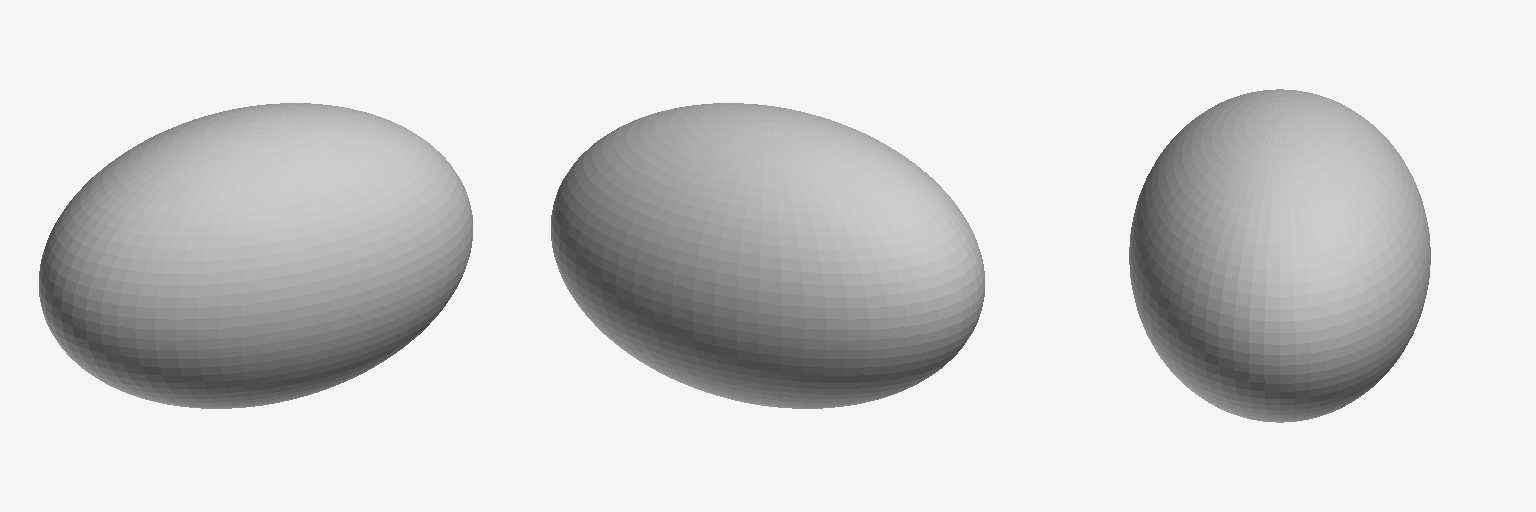
The model's file is ellipsoid.obj.
The picture shows the model from 3 angles: view 1: azimuth 30°, elevation 25°; view 2: azimuth 150°, elevation 25°; view 3: azimuth 270°, elevation 25°; orthographic projection.
Bounding box in the file's own units: 19.15 × 12.02 × 12.27.